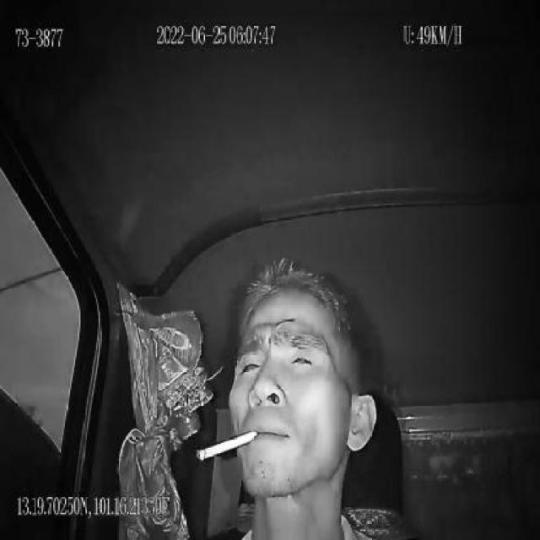smoking: (195, 426, 259, 462)
